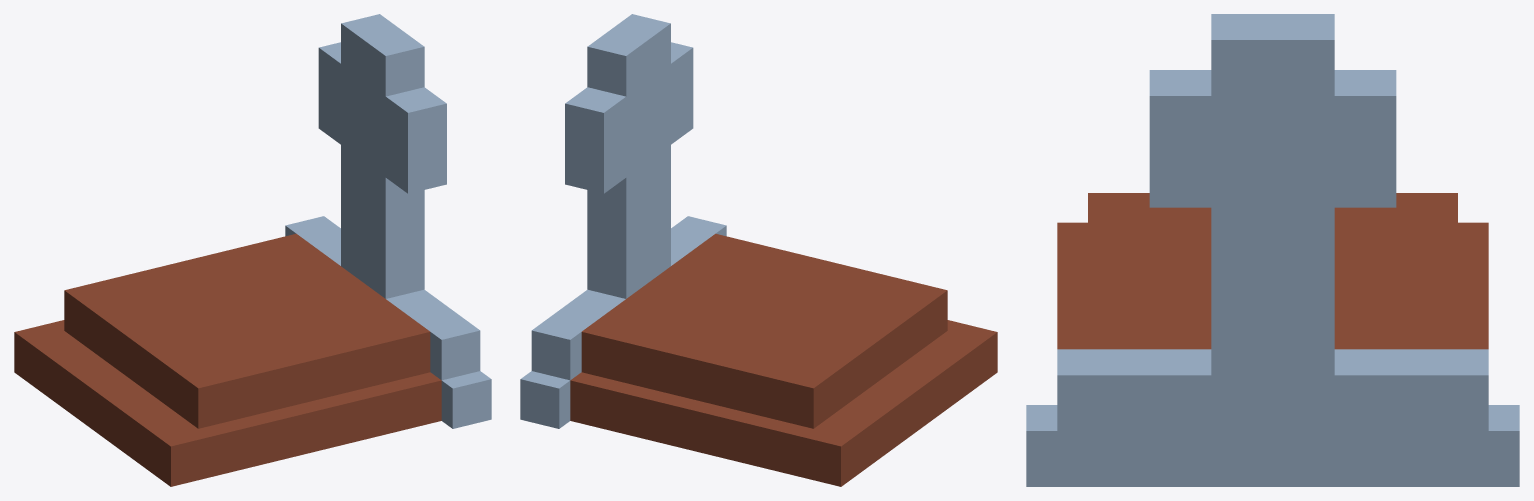
File: tomb-02.obj
3 renders of one model, left to right at view 1: azimuth 30°, elevation 25°; view 2: azimuth 150°, elevation 25°; view 3: azimuth 270°, elevation 25°, orthographic. The views are drawn at different scales.
Size of the model in its own units: 8 by 8 by 8.
Materials: 1 (1 with a texture image).
